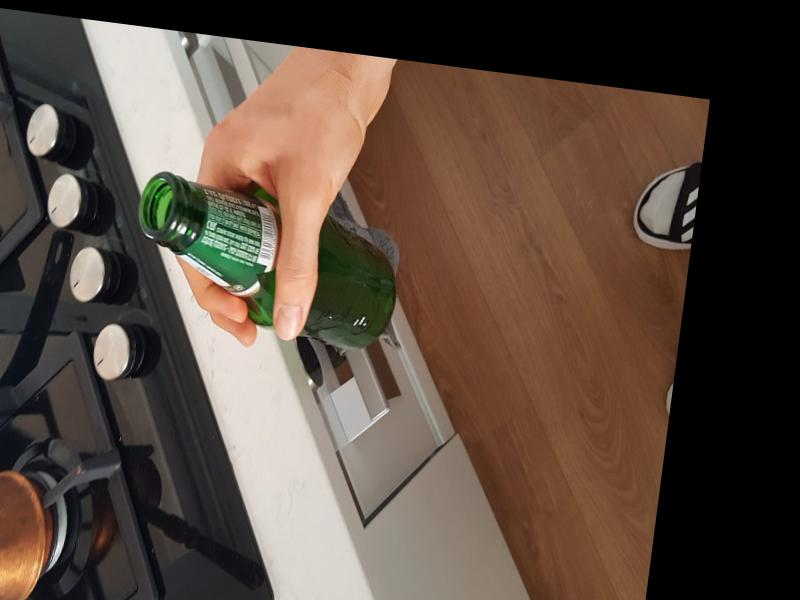Beer: (124, 170, 408, 351)
